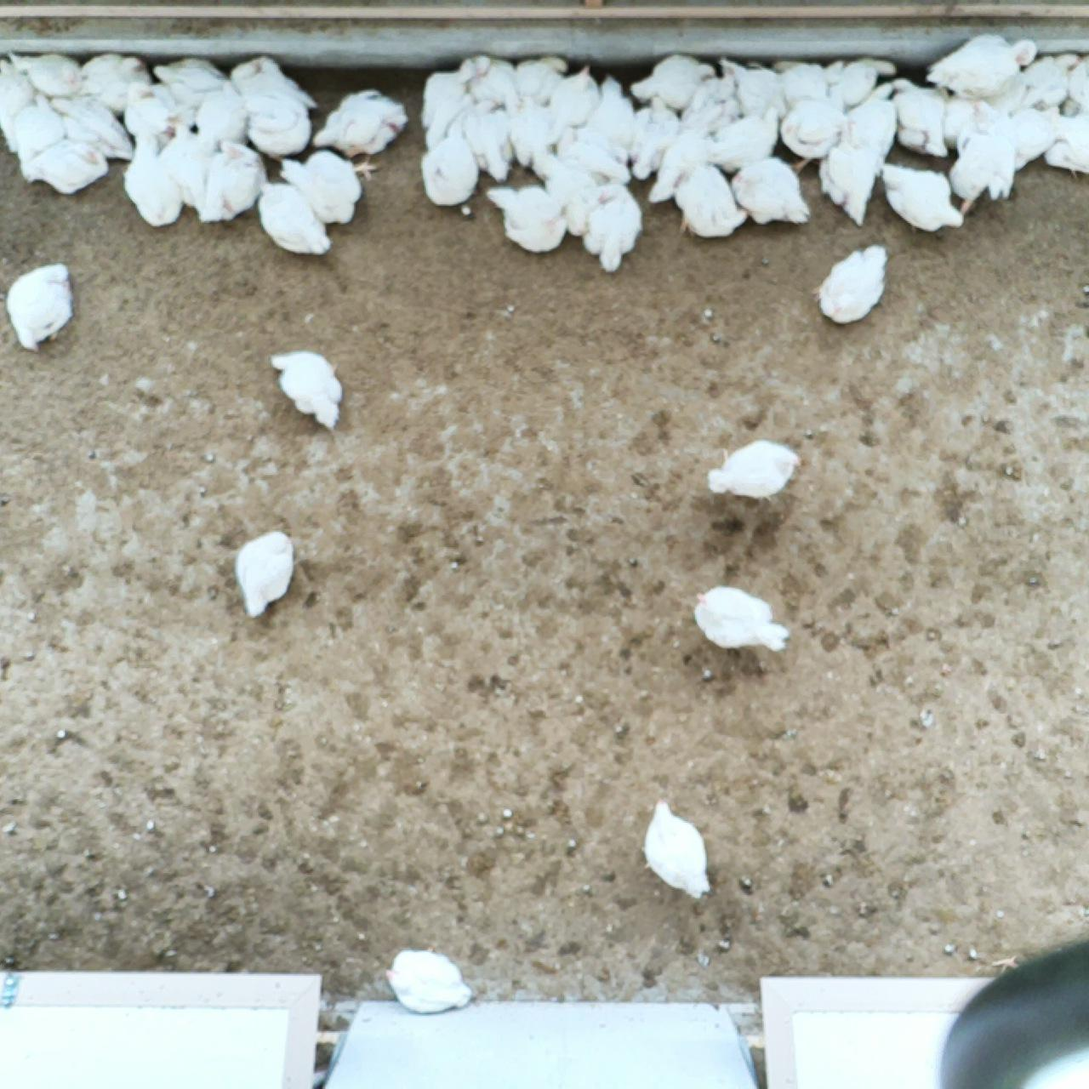chicken: (814, 116, 888, 231), (276, 146, 379, 228), (686, 582, 793, 658), (926, 30, 1038, 102), (642, 795, 717, 901), (771, 76, 847, 176), (941, 118, 1024, 209), (309, 87, 411, 158), (41, 90, 139, 162), (121, 123, 186, 231), (266, 348, 346, 434), (812, 241, 891, 328), (670, 157, 751, 241), (704, 438, 807, 503), (531, 145, 600, 242), (6, 259, 77, 353), (876, 160, 966, 233), (196, 136, 270, 224), (231, 523, 300, 617), (479, 182, 569, 254), (383, 946, 475, 1016), (726, 154, 811, 228), (20, 134, 114, 200), (985, 98, 1066, 173), (618, 89, 681, 185), (628, 51, 721, 116), (225, 50, 321, 112), (643, 133, 724, 206), (581, 180, 644, 273), (255, 180, 333, 255), (709, 53, 789, 124), (154, 115, 212, 210), (71, 50, 155, 113), (239, 89, 311, 161), (707, 107, 784, 174), (113, 77, 196, 139), (462, 93, 517, 186), (889, 77, 950, 160), (936, 76, 1006, 148), (191, 73, 253, 153), (9, 89, 66, 176), (581, 76, 634, 169), (836, 80, 898, 159), (1016, 46, 1082, 119), (820, 54, 900, 114), (547, 63, 604, 147), (419, 54, 481, 128), (678, 70, 743, 140), (552, 125, 632, 181), (147, 53, 232, 105), (420, 135, 477, 211), (8, 46, 86, 99), (767, 54, 834, 114), (0, 53, 38, 154), (419, 87, 479, 150), (505, 91, 554, 166), (511, 54, 571, 109), (456, 52, 514, 107), (1040, 113, 1089, 178), (1058, 54, 1089, 119)
